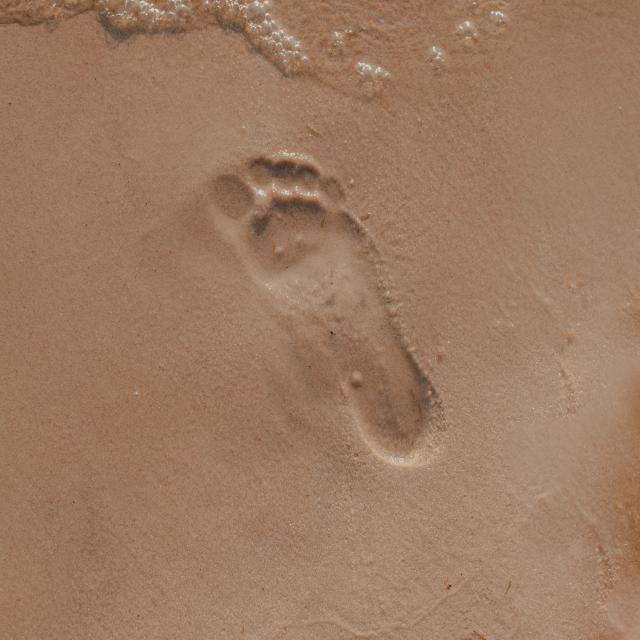human_footprint: (197, 145, 449, 471)
